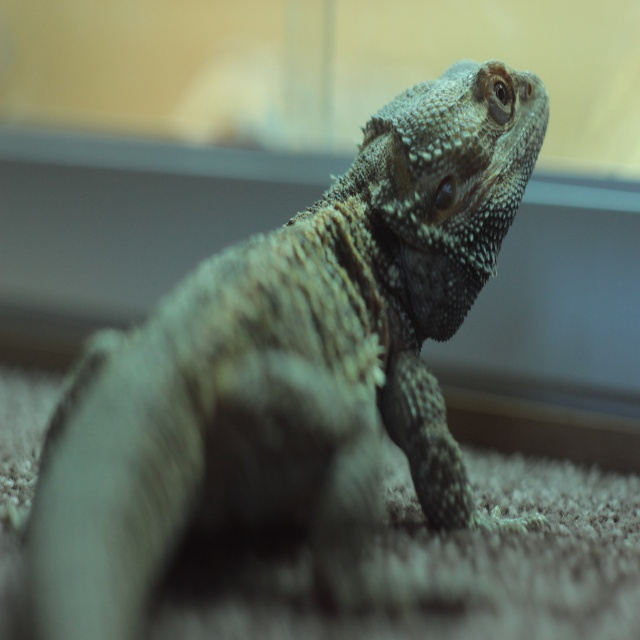Lizard: (51, 79, 568, 634)
